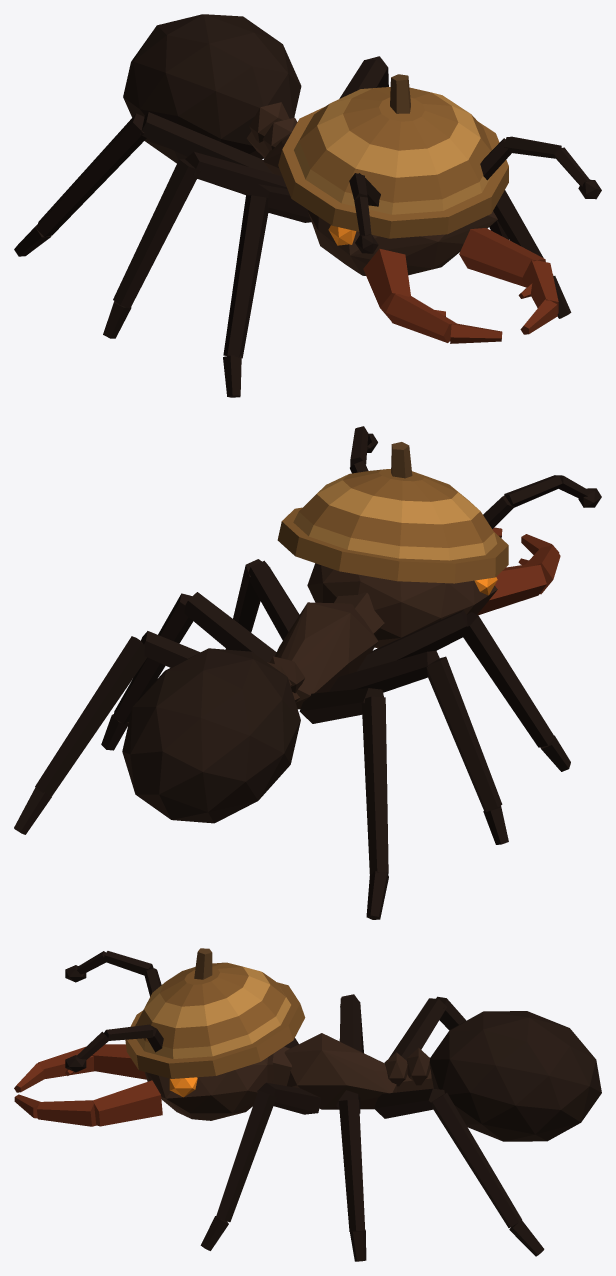
File: ant_soldier.glb
3 views of the same model, one above another, from view 1: azimuth 30°, elevation 25°; view 2: azimuth 150°, elevation 25°; view 3: azimuth 270°, elevation 25° (orthographic). The views are drawn at different scales.
Visible parts, largest first — view 1: ant_soldier, Helmet; view 2: ant_soldier, Helmet; view 3: ant_soldier, Helmet.
Part boxes in pixels (<box>): ant_soldier: <box>14,14,601,397</box>; Helmet: <box>278,74,508,238</box>; ant_soldier: <box>14,426,601,919</box>; Helmet: <box>277,442,508,583</box>; ant_soldier: <box>14,951,601,1261</box>; Helmet: <box>125,948,305,1078</box>.
Size of the model in its own units: 1.66 by 1.11 by 2.53.
1 material, 1 textured.
